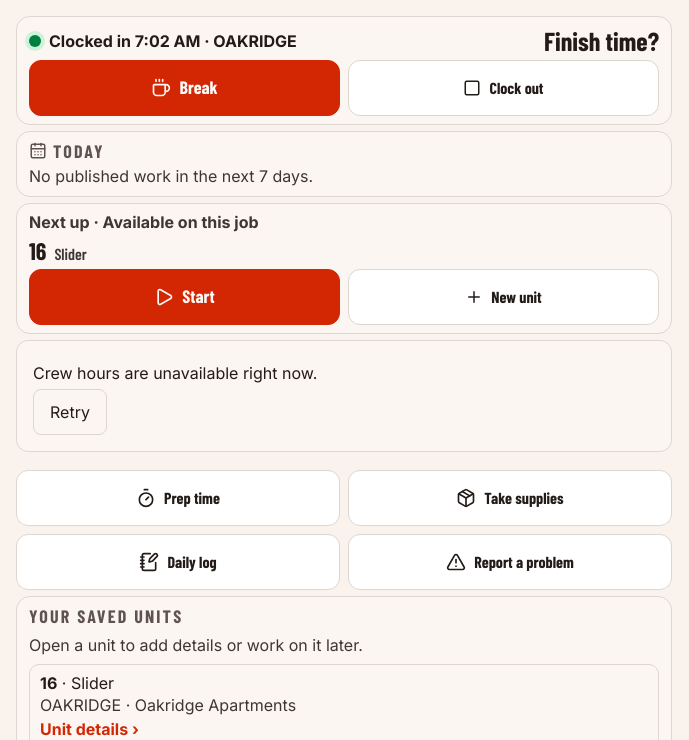
WorkScreen (K1.2) › K1.3: a saved-unit start Forge refuses for the signature shows the same words on the card
Click the button "Start". click: x=184, y=297
box: [29,269,340,325]
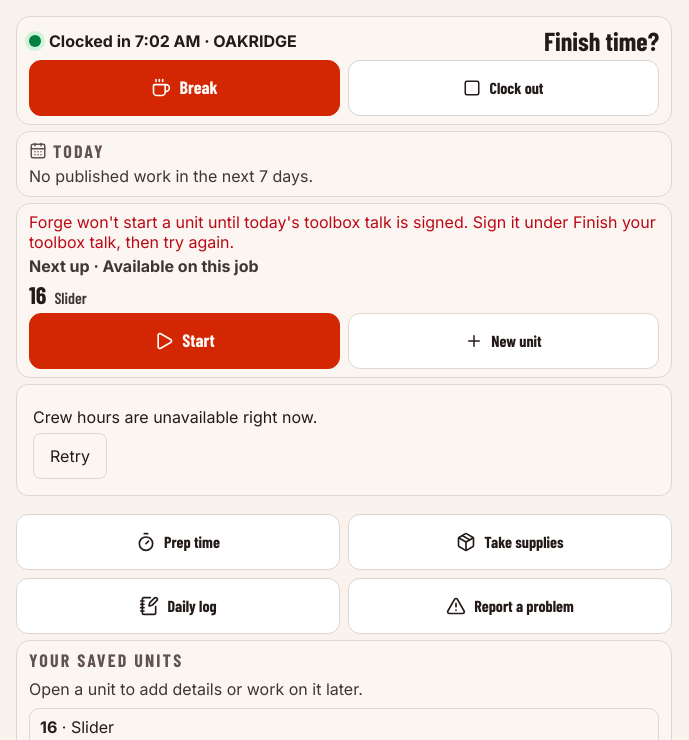
Expected: the 1st message shows "Forge won't start a unit until today's toolbox talk is signed", [29,212,656,252]
